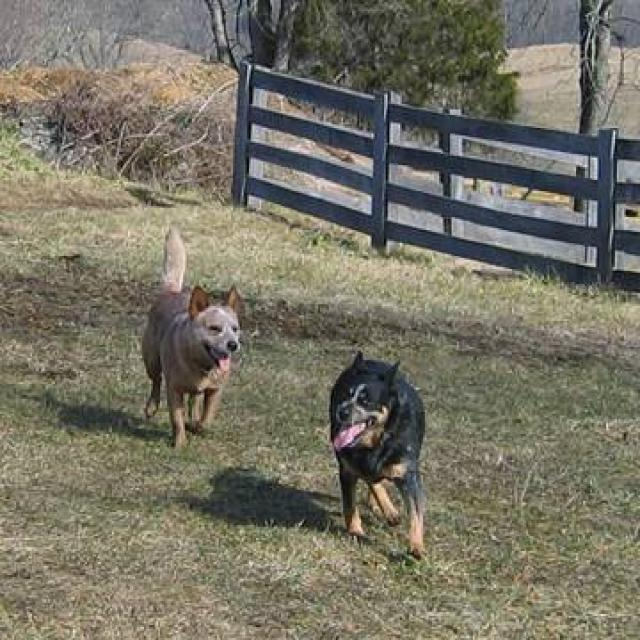dog: (138, 223, 244, 449), (327, 349, 427, 560)
